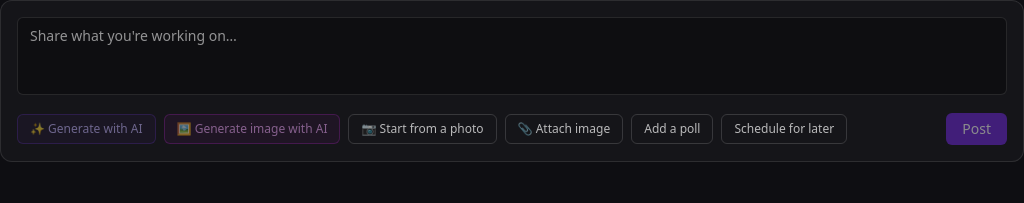
Test: PostComposer › keeps the draft and shows the message if posting fails
Type "Important draft" into the text box with placeholder "Share what you're working on…" at (512, 56), box [17,17,1007,95]
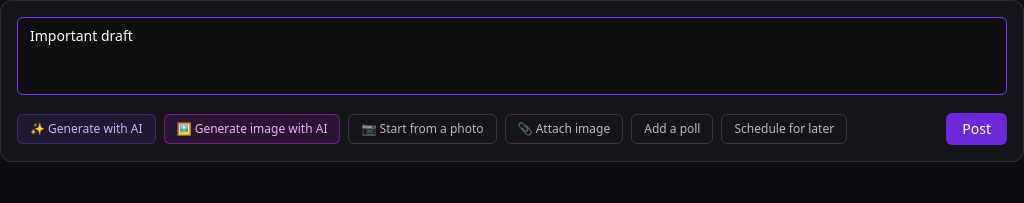
Click the button "Post" at (977, 129), box [946,113,1007,145]
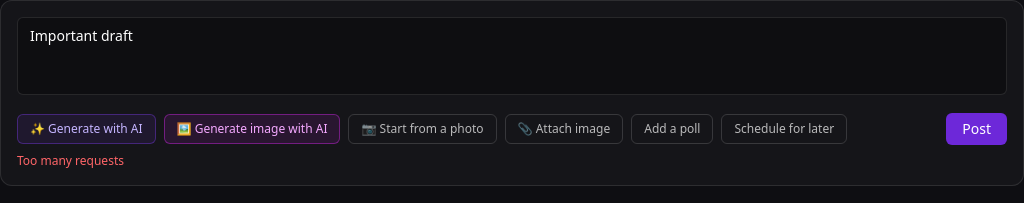
Result: the button "Post" is enabled at [946,113,1007,145]
Result: the text "Too many requests" is shown at [17,152,124,169]
